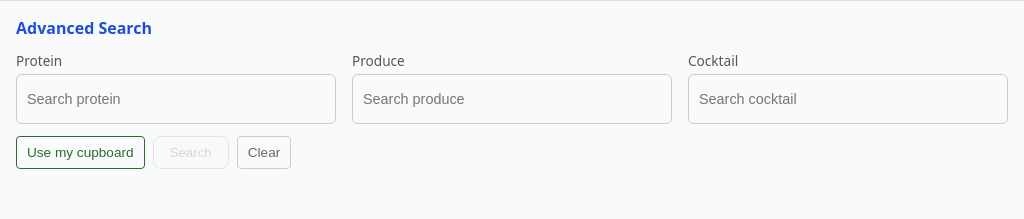
Scenario: AdvancedSearch › cupboard search (Ticket 13) › lists each cupboard ingredient once, all ticked, without touching the ingredient selection
What coordinates should you click on to do the following:
click the button with class "cupboard-btn"
I would click on:
 (80, 152)
Its box is x1=16 y1=136 x2=144 y2=169.
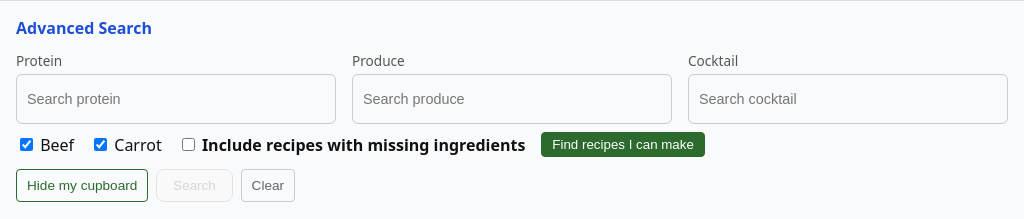
Expected: the elements with class "cupboard-choice" read "Beef", "Carrot", in this order, x1=16 y1=134 x2=74 y2=156; x1=90 y1=134 x2=162 y2=156
